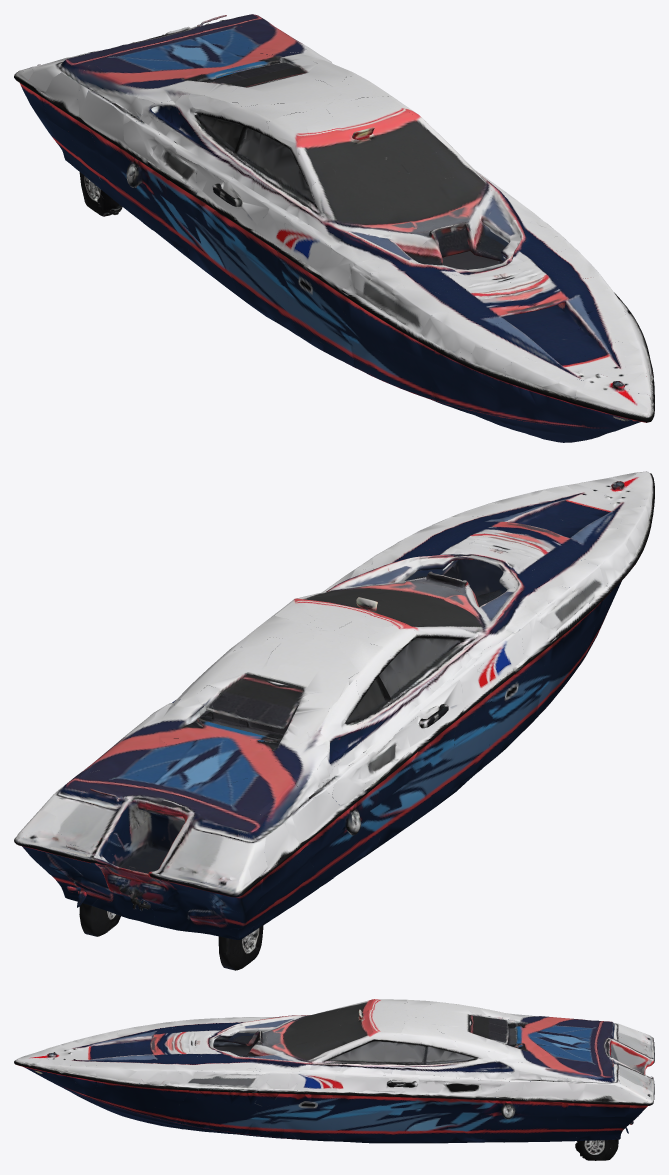
File: corsair-speedboat.glb
3 views of the same model, one above another, from view 1: azimuth 30°, elevation 25°; view 2: azimuth 150°, elevation 25°; view 3: azimuth 270°, elevation 25° (orthographic). The views are drawn at different scales.
Parts seen in each view (by area): view 1: corsair-speedboat; view 2: corsair-speedboat; view 3: corsair-speedboat.
Boxes of the visible parts, x1,y1,x2,y2 form: corsair-speedboat: (14, 14, 654, 442); corsair-speedboat: (14, 471, 654, 970); corsair-speedboat: (14, 999, 654, 1160).
Bounding box in the file's own units: 3.05 × 2.59 × 12.
Materials: 1 (1 with a texture image).
